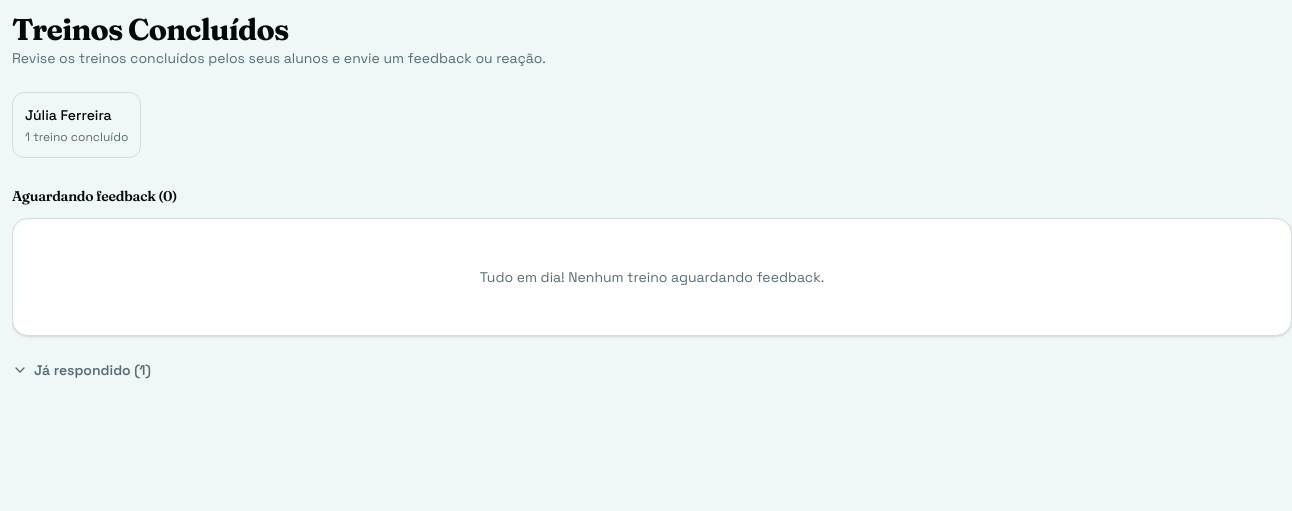
Scenario: TreinosConcluidosPage › moves a check-in with feedback into the collapsed 'Já respondido' section, showing its emoji
Expected: the heading "Aguardando feedback (0)" is shown, [12, 187, 177, 205]
Click the button "Já respondido (1)" at (82, 370), box [12, 360, 151, 380]
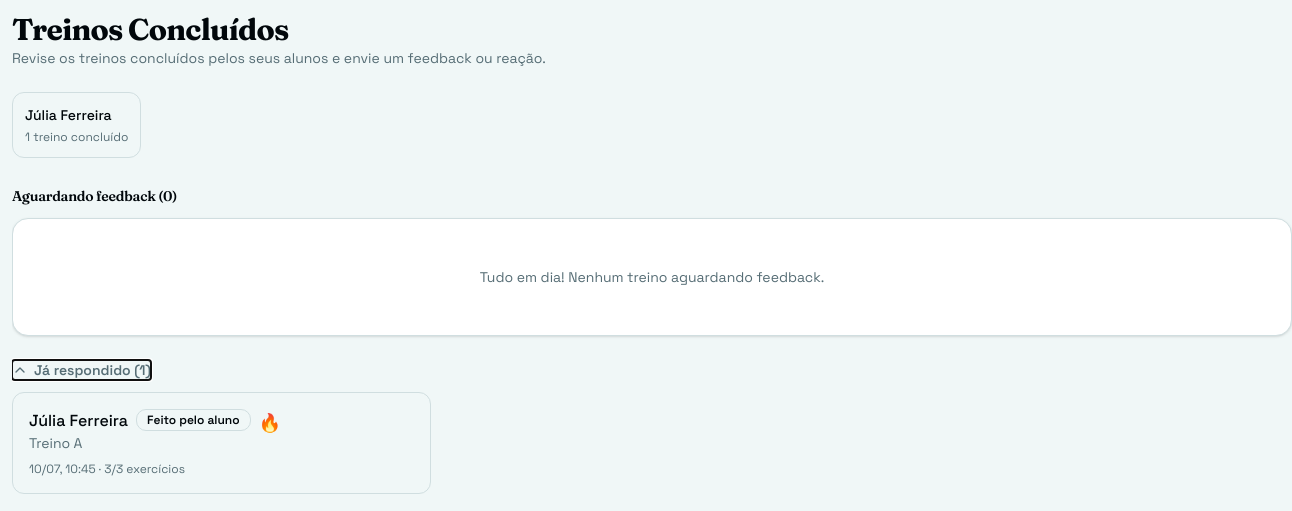
Expected: the text named "Feedback enviado" reads "🔥", [259, 411, 281, 434]
